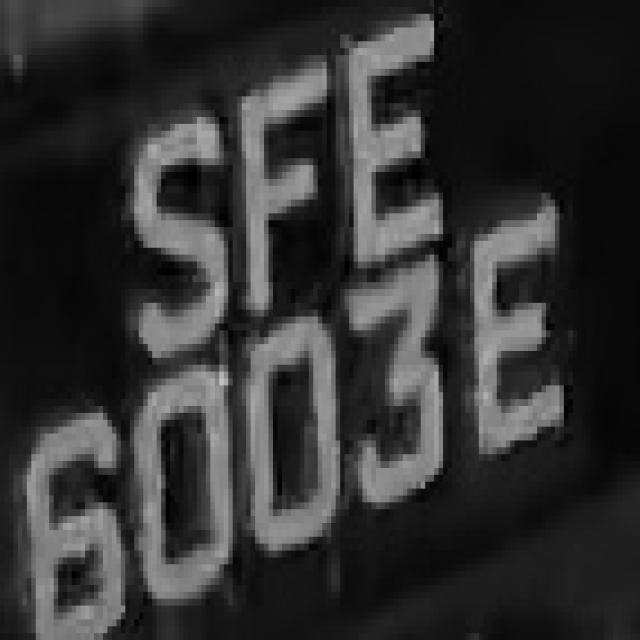0: (224, 303, 354, 571), (130, 364, 242, 606)
3: (327, 255, 452, 523)
6: (20, 409, 126, 640), (0, 4, 1, 7)
E: (456, 199, 573, 475), (336, 21, 452, 275)
F: (242, 55, 336, 317)
S: (121, 110, 228, 358)
